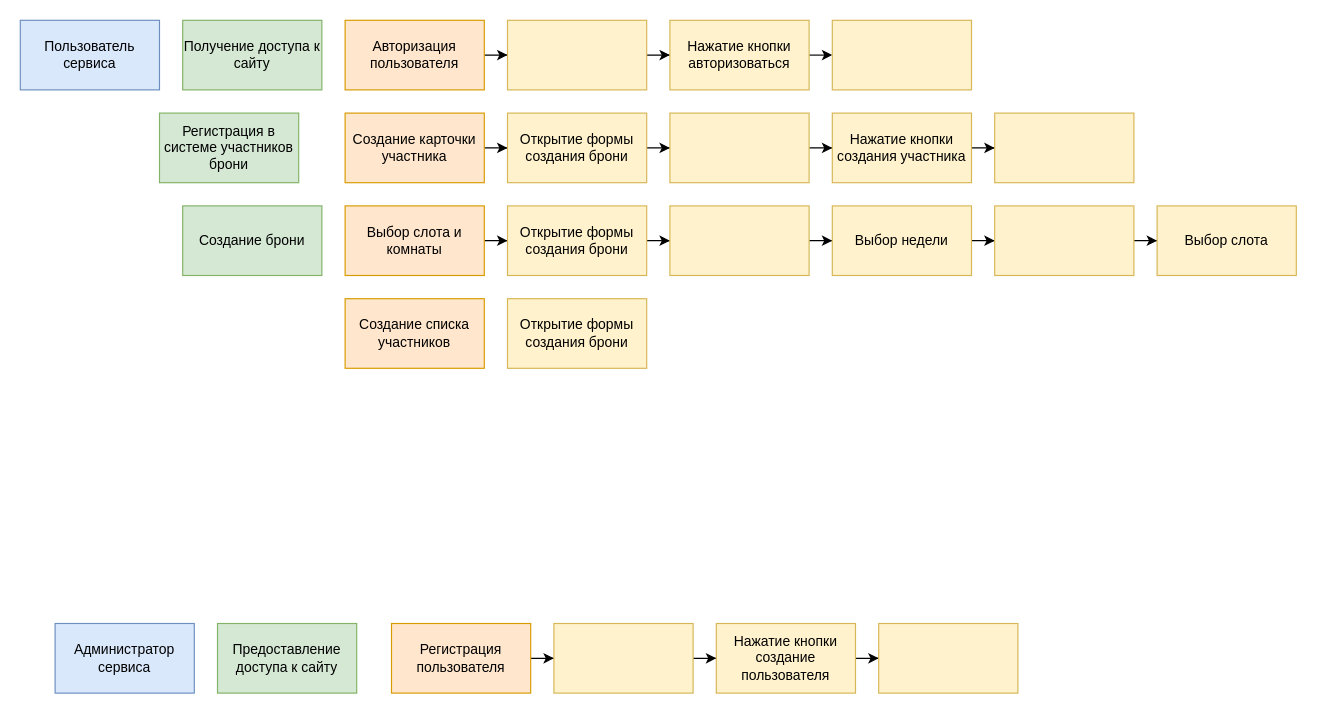
This 1317x713 diagram has some shape labels left out. Each missing label, with the centre of its shape:
"Выбор дня" belongs at [1064,240].
"Выбор комнаты" belongs at [739,240].
"Заполнение формы авторизации и ее подтверждение" belongs at [901,54].
"Заполнение формы регистрации и ее подтверждение" belongs at [948,657].
"Заполнение формы создания участника и его подтверждения" belongs at [1064,147].
"Нажатие кнопки добавления участников" belongs at [739,147].
"Открытие панели администратора" belongs at [623,657].
"Открытие сайта" belongs at [576,54].
